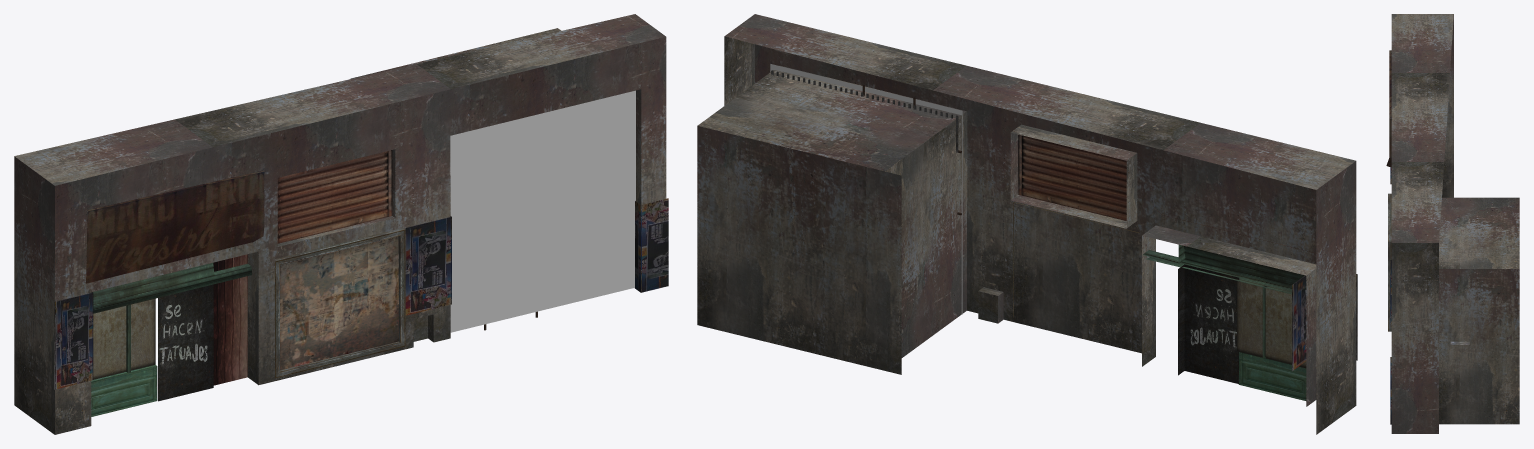
Rendered from building006.FBX.
The picture shows the model from 3 angles, left to right: view 1: azimuth 30°, elevation 25°; view 2: azimuth 150°, elevation 25°; view 3: azimuth 270°, elevation 25°; orthographic projection. The views are drawn at different scales.
Visible parts, largest first — view 1: Plane001; view 2: Plane001; view 3: Plane001.
Boxes of the visible parts, x1,y1,x2,y2 form: Plane001: (14,14,668,434); Plane001: (697,14,1357,434); Plane001: (1386,14,1519,433).
Size of the model in its own units: 1192 by 479 by 292.
